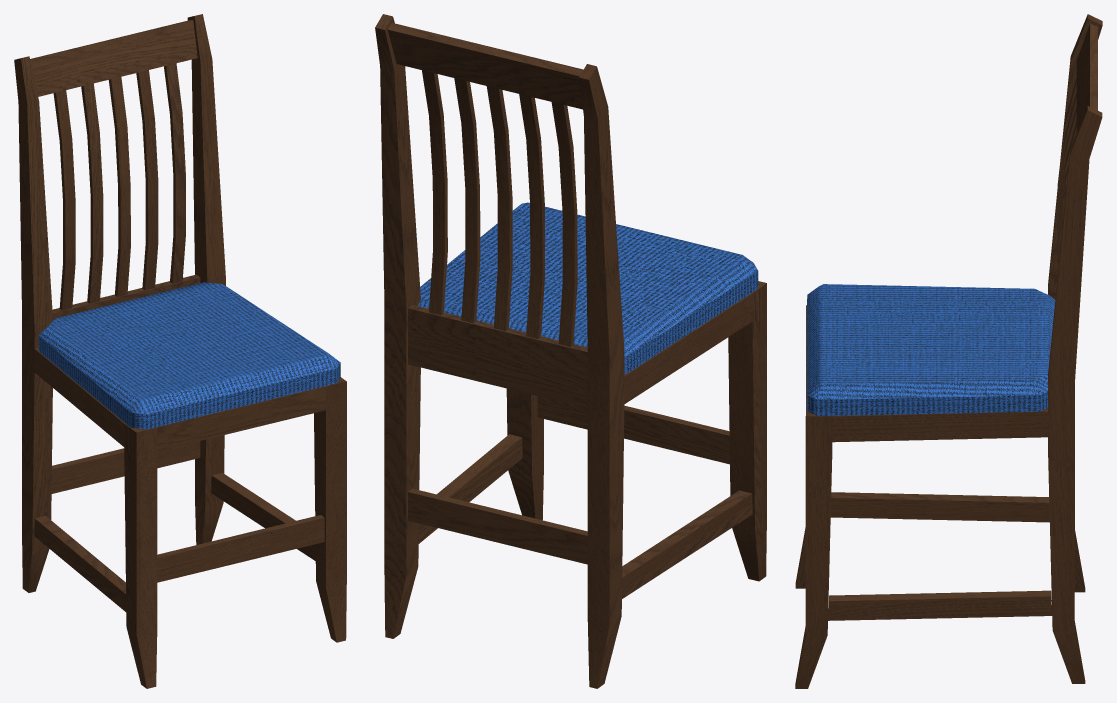
Rendered from chair.glb.
The picture shows the model from 3 angles, left to right: view 1: azimuth 30°, elevation 25°; view 2: azimuth 150°, elevation 25°; view 3: azimuth 270°, elevation 25°; orthographic projection. The views are drawn at different scales.
Bounding box in the file's own units: 0.3944 × 0.95 × 0.4607.
Materials: 2 (2 with a texture image).
